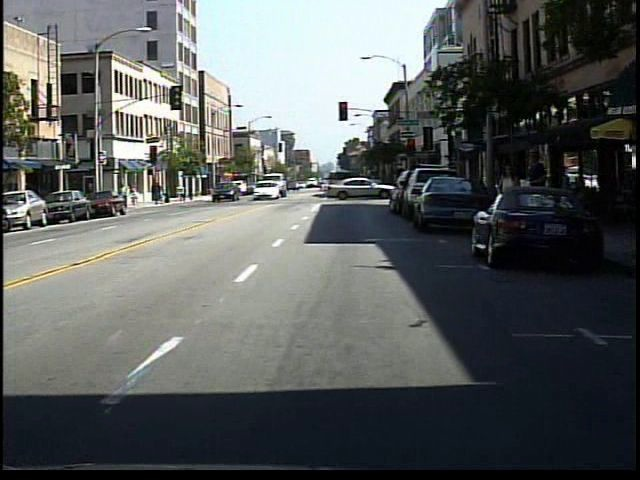person: (517, 146, 550, 248), (496, 155, 521, 244), (132, 184, 145, 210), (117, 179, 131, 203)
